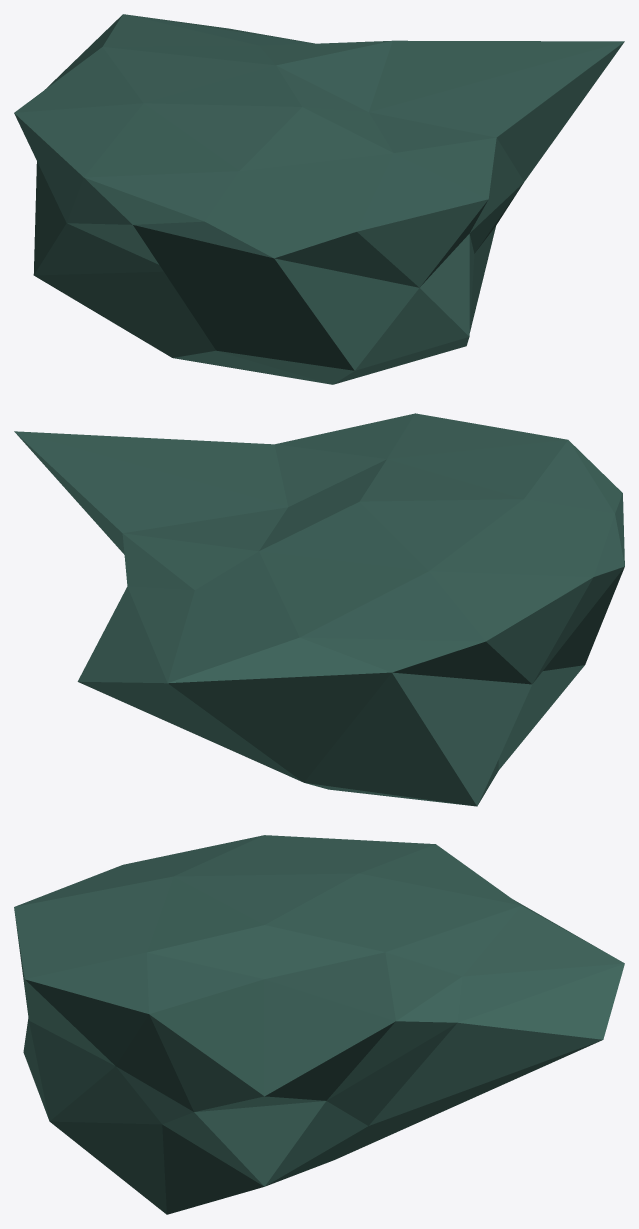
Rendered from Stone_28.fbx.
3 views of the same model, one above another, from view 1: azimuth 30°, elevation 25°; view 2: azimuth 150°, elevation 25°; view 3: azimuth 270°, elevation 25° (orthographic). The views are drawn at different scales.
Visible parts, largest first — view 1: Stone 28; view 2: Stone 28; view 3: Stone 28.
Part boxes in pixels (x1,y1,x2,y2): Stone 28: (14, 14, 624, 384); Stone 28: (14, 413, 624, 806); Stone 28: (14, 835, 624, 1214).
Size of the model in its own units: 249 by 110 by 243.
